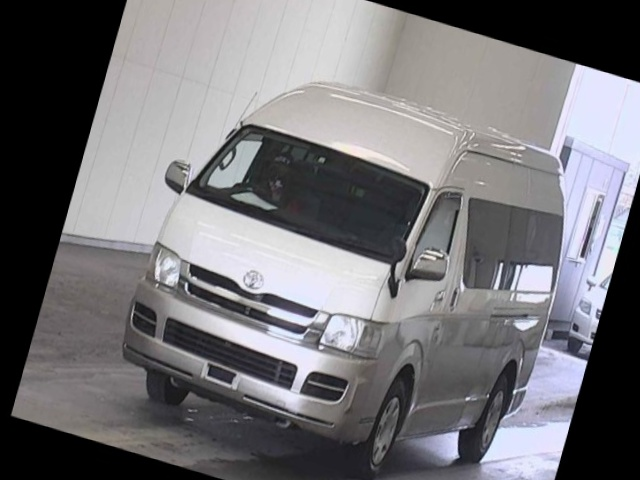van: (98, 28, 605, 480)
